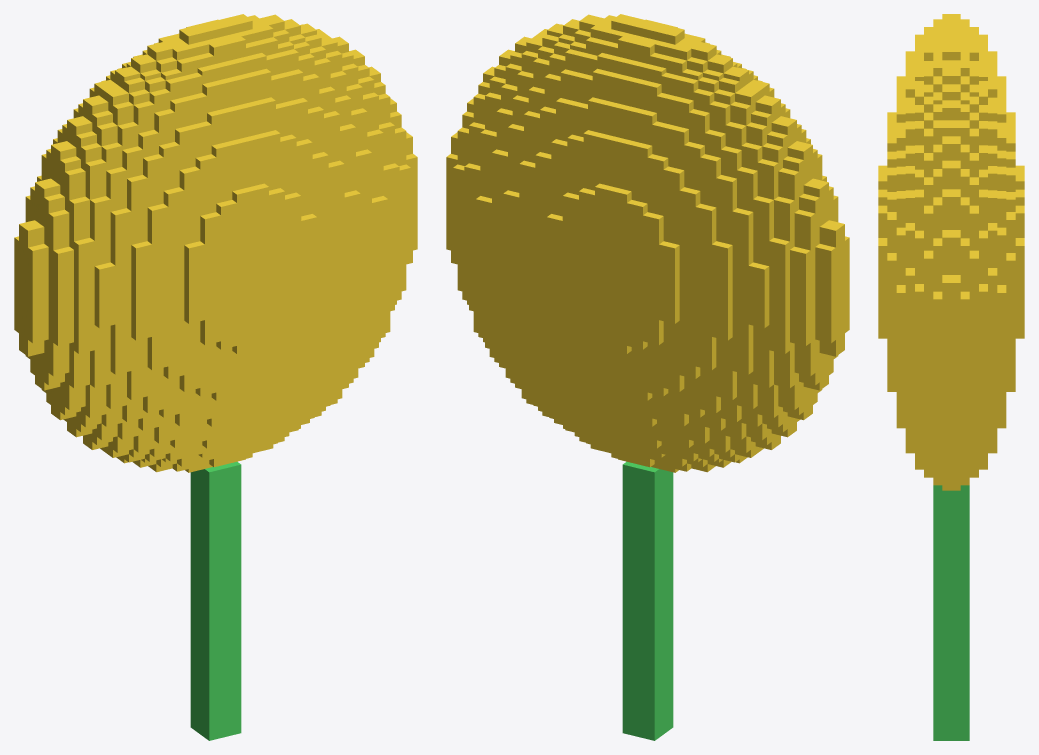
Rendered from lollipop.fbx.
3 renders of one model, left to right at view 1: azimuth 30°, elevation 25°; view 2: azimuth 150°, elevation 25°; view 3: azimuth 270°, elevation 25°, orthographic.
Visible parts, largest first — view 1: default; view 2: default; view 3: default.
Part boxes in pixels (x1,y1,x2,y2): default: (14, 14, 417, 740); default: (446, 14, 849, 740); default: (878, 14, 1024, 740).
Size of the model in its own units: 192 by 336 by 64.
